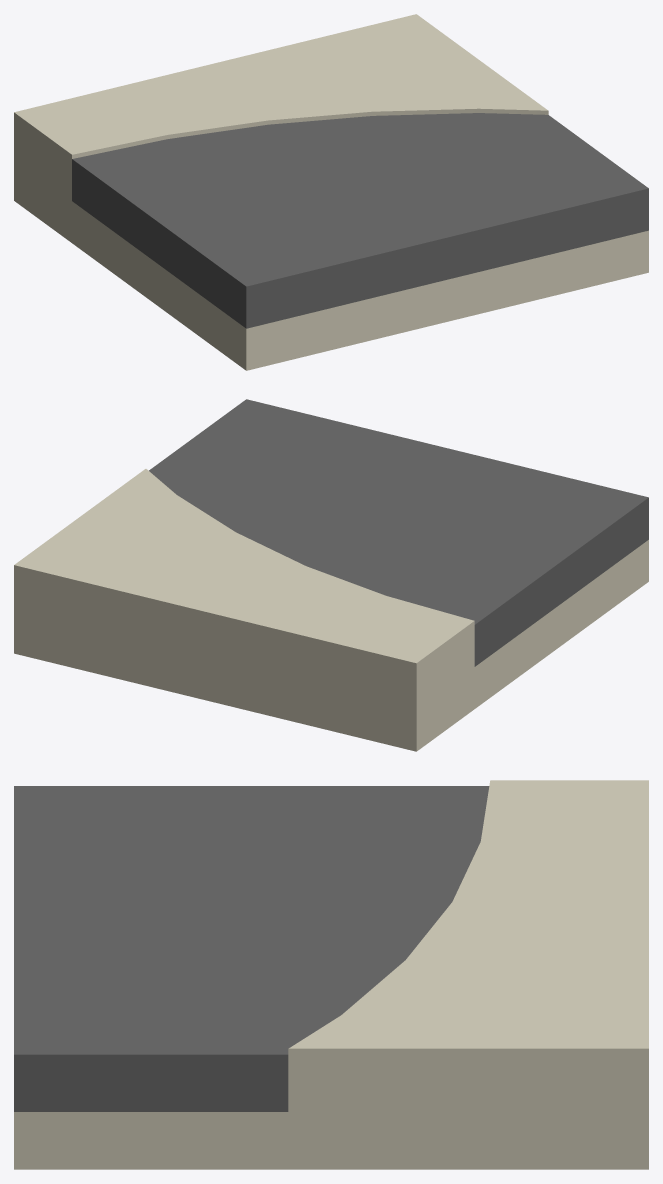
Rendered from tile192.dae.
The picture shows the model from 3 angles, top to bottom: view 1: azimuth 30°, elevation 25°; view 2: azimuth 150°, elevation 25°; view 3: azimuth 270°, elevation 25°; orthographic projection. The views are drawn at different scales.
Parts seen in each view (by area): view 1: tile192; view 2: tile192; view 3: tile192.
Boxes of the visible parts, bbox=[...] form: tile192: bbox=[14, 14, 648, 370]; tile192: bbox=[14, 399, 648, 751]; tile192: bbox=[14, 780, 648, 1169].
Bounding box in the file's own units: 1 × 0.21 × 1.
